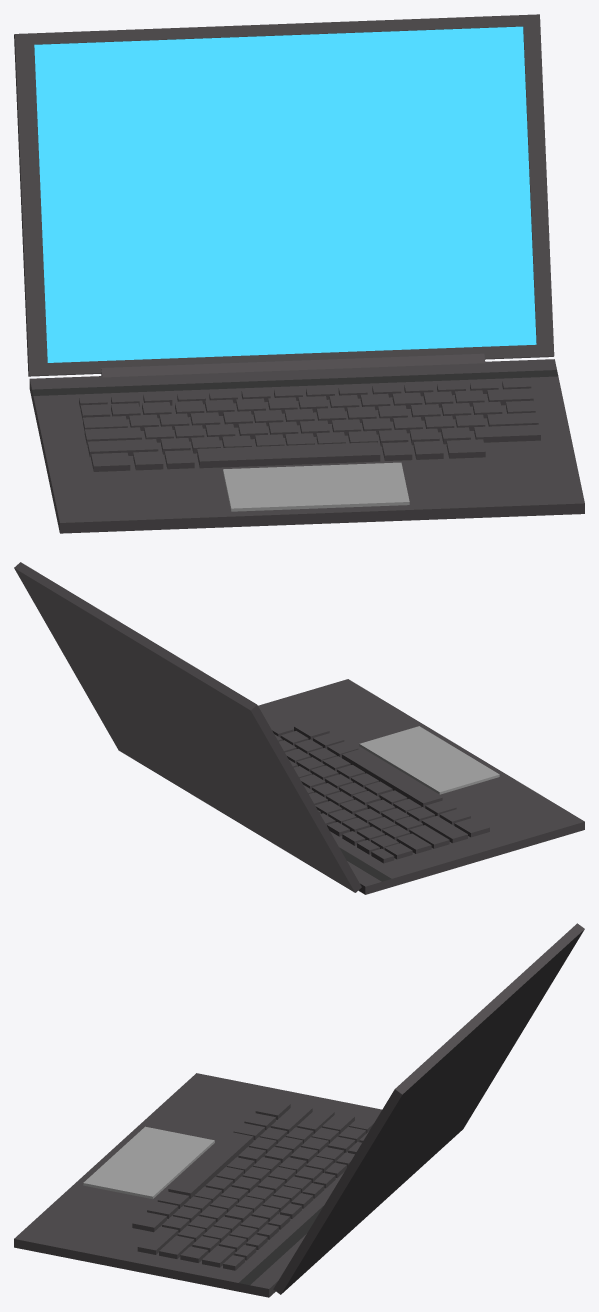
File: laptop.gltf
The picture shows the model from 3 angles, top to bottom: view 1: azimuth 30°, elevation 25°; view 2: azimuth 150°, elevation 25°; view 3: azimuth 270°, elevation 25°; orthographic projection. The views are drawn at different scales.
Visible parts, largest first — view 1: Laptop.002; view 2: Laptop.002; view 3: Laptop.002.
Part boxes in pixels (bbox=[...]): Laptop.002: bbox=[14, 14, 584, 533]; Laptop.002: bbox=[14, 562, 584, 894]; Laptop.002: bbox=[14, 923, 584, 1297].
Size of the model in its own units: 0.475 by 0.2134 by 0.4733.
